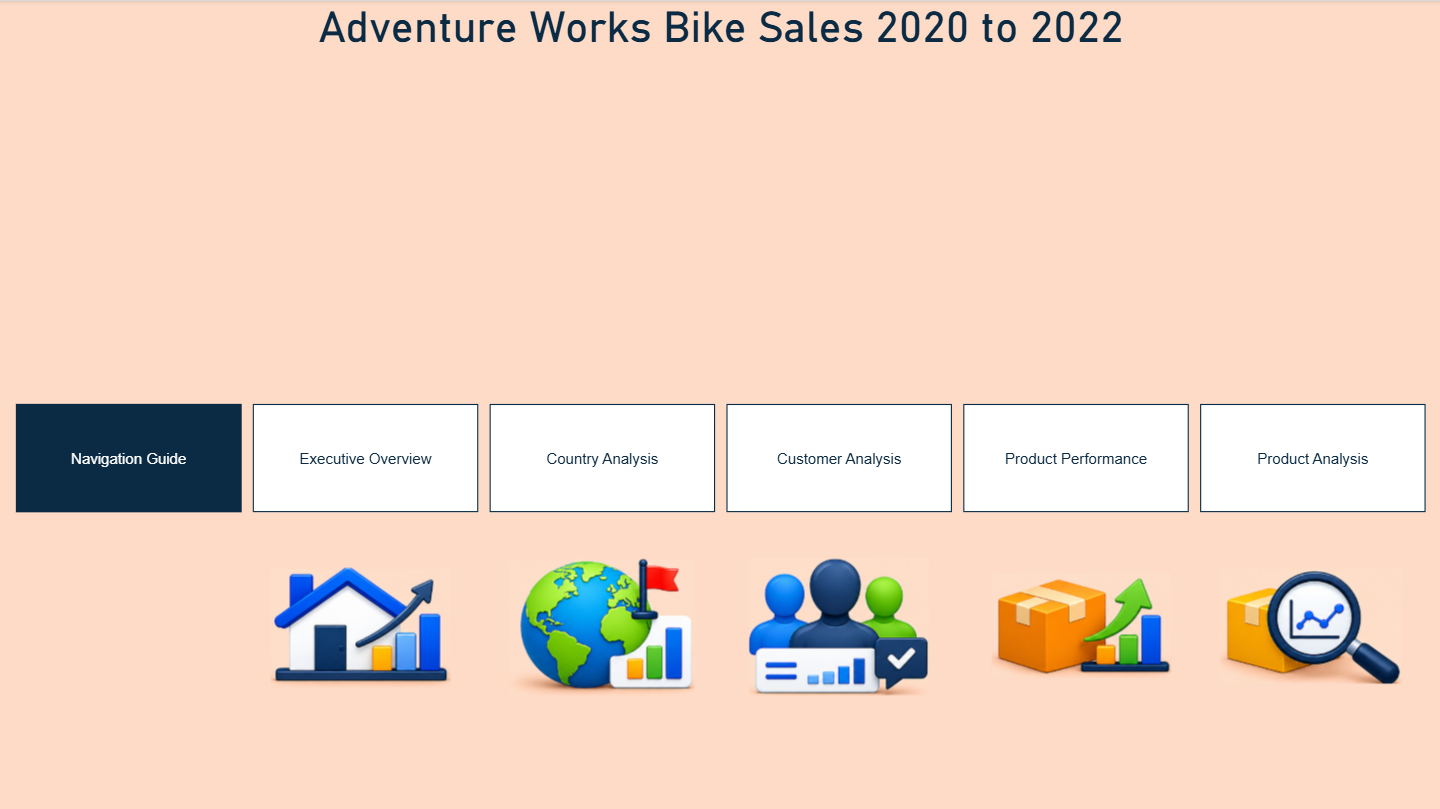

The page's visual inventory and layout, read from the dashboard file:
{"tool":"powerbi","page":{"name":"Navigation Guide","canvas":[1280,720],"ordinal":0},"visuals":[{"type":"textbox","box":[0,469.9,1280.4,250],"z":0,"group":"g1"},{"type":"group","id":"g1","title":"Group 1","box":[0,1.1,1280.4,718.9],"z":2},{"type":"textbox","box":[0,1.1,1280.4,350.2],"z":1000,"group":"g1"},{"type":"pageNavigator","box":[0,343.1,1280.4,126.8],"z":2000,"group":"g1"},{"type":"actionButton","box":[1078.7,470,201.3,170.2],"z":3125,"group":"g2"},{"type":"actionButton","box":[448.9,470,185.3,172],"z":3250,"group":"g2"},{"type":"actionButton","title":"Executive Overview","box":[237,472.7,185.3,167.6],"z":3500,"group":"g2"},{"type":"actionButton","box":[660.8,471.8,175.6,168.5],"z":4000,"group":"g2"},{"type":"actionButton","box":[876.6,470.9,181.8,167.6],"z":4500,"group":"g2"},{"type":"group","id":"g2","title":"Group 3","box":[237,470,1043,172.1],"z":14002}]}

Visuals, with their boxes in screenshot pixels (x1, y1, x2, y2), scaled from the page's 1280x720 canvas onto the 1440x809 screenshot:
textbox: (0, 528, 1439, 808)
"Group 1" group: (0, 1, 1439, 808)
textbox: (0, 1, 1439, 395)
pageNavigator: (0, 386, 1439, 528)
actionButton: (1214, 528, 1439, 719)
actionButton: (505, 528, 713, 721)
"Executive Overview" actionButton: (267, 531, 475, 719)
actionButton: (743, 530, 941, 719)
actionButton: (986, 529, 1191, 717)
"Group 3" group: (267, 528, 1439, 721)
